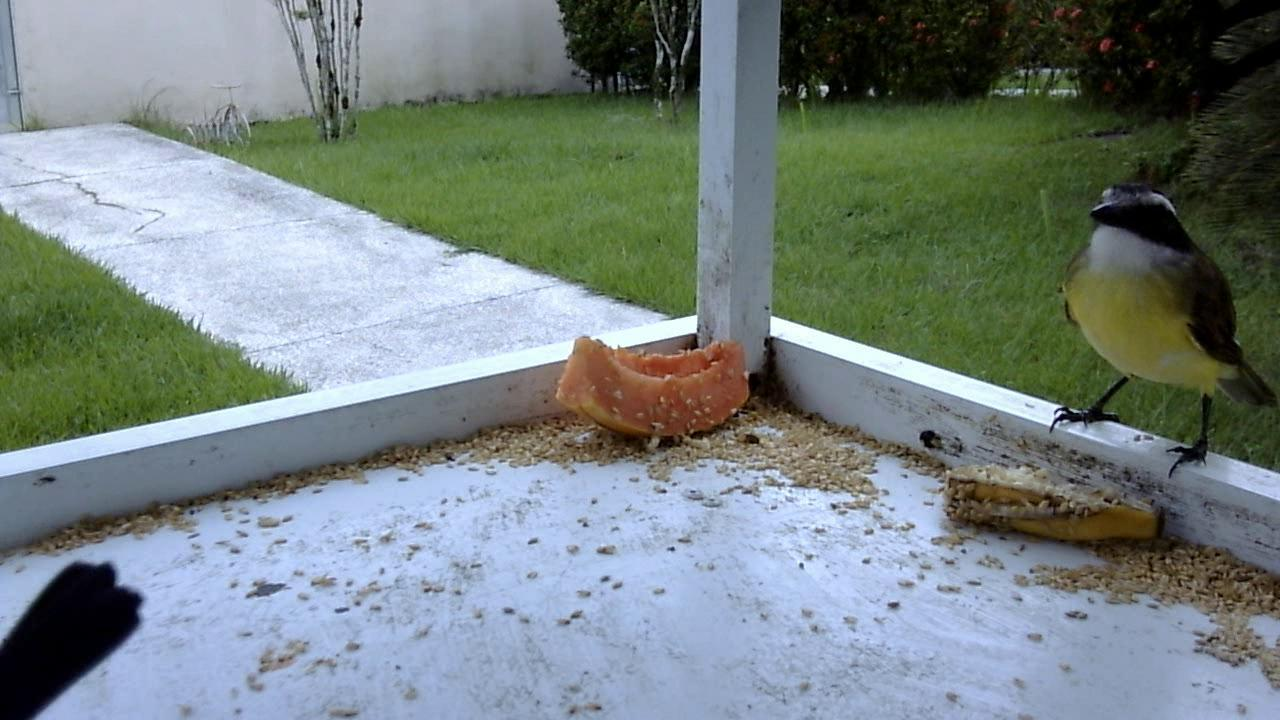bem_te_vi: (1038, 173, 1278, 493)
